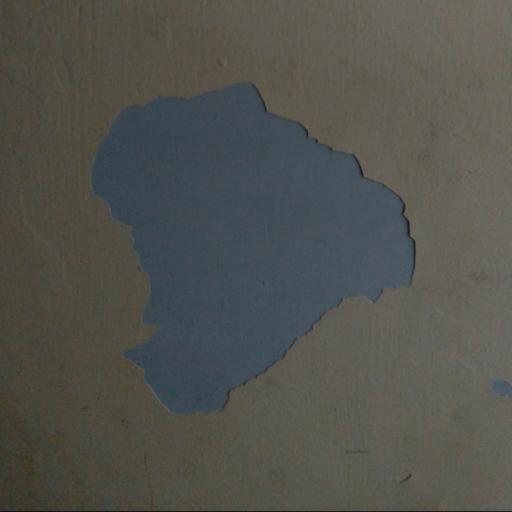peeling: (80, 69, 434, 434)
